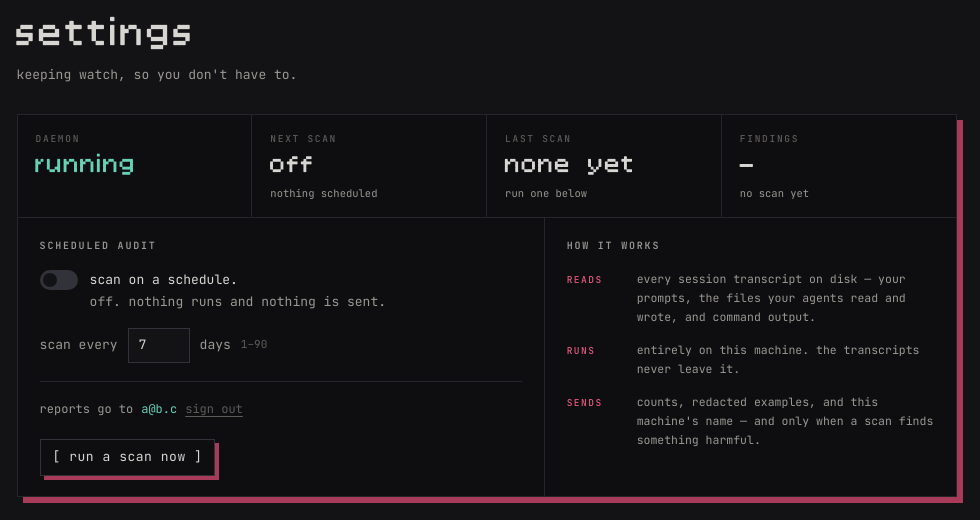
Test case: the interval › reflects what the config stored, not what was typed
Replace the text in the number field named "days between scheduled scans" with "3650" at (159, 345), box [128,328,190,362]
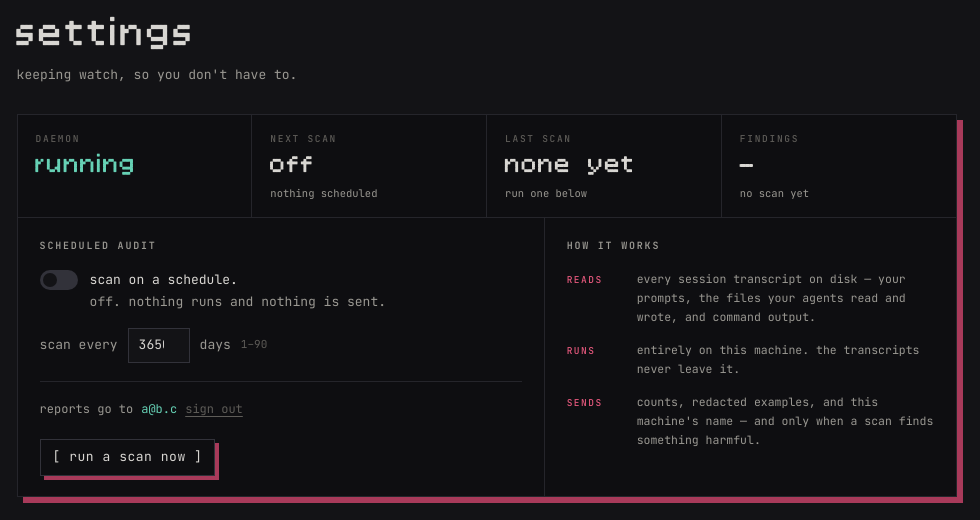
Leave the number field named "days between scheduled scans", box [128,328,190,362]
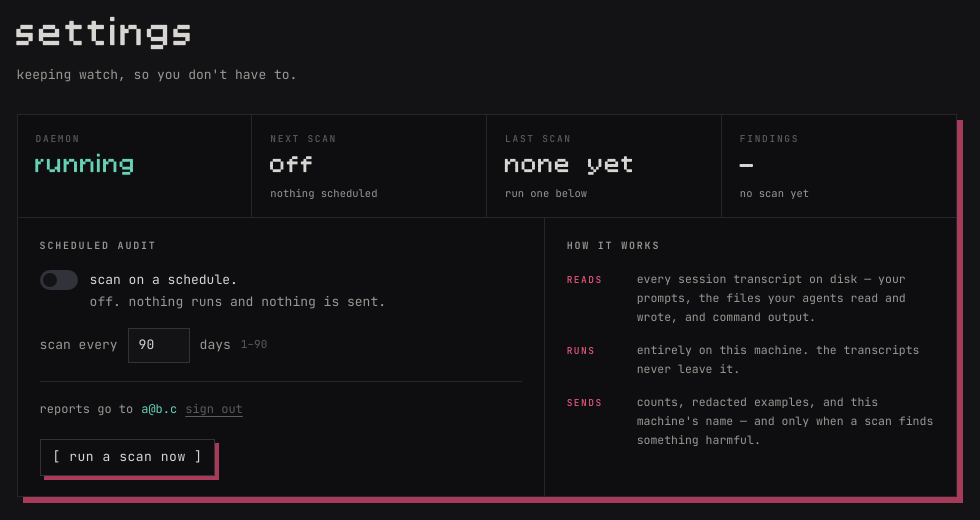
Now the number field named "days between scheduled scans" holds "90", box [128,328,190,362]
